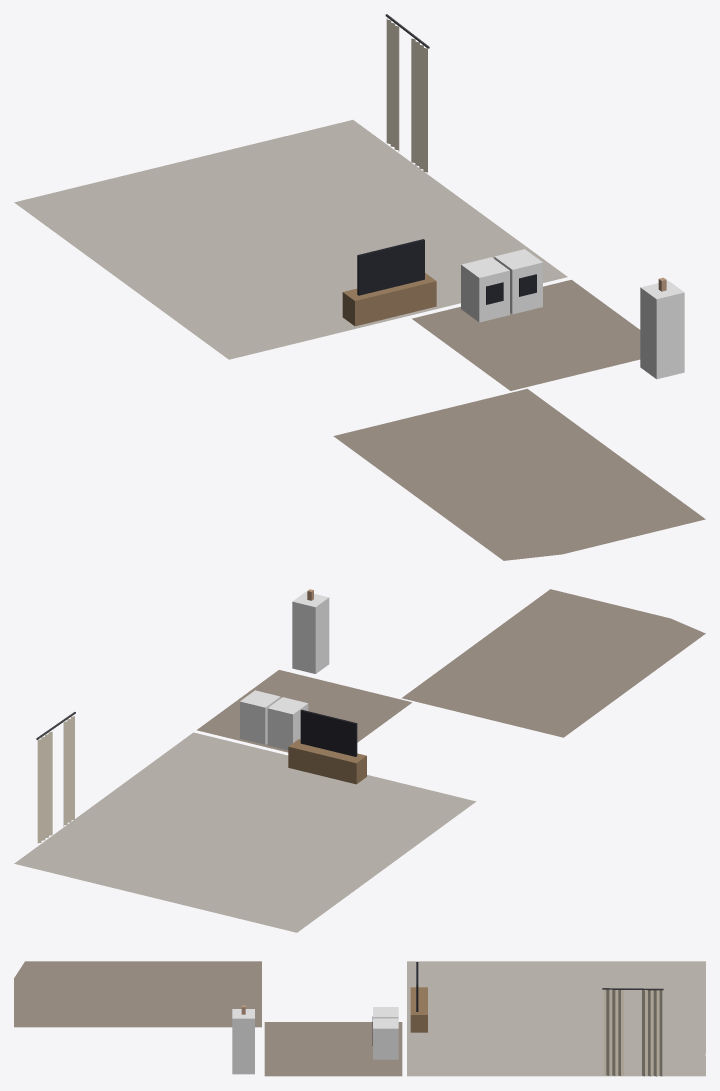
The model's file is fine-s0.glb.
3 views of the same model, one above another, from view 1: azimuth 30°, elevation 25°; view 2: azimuth 150°, elevation 25°; view 3: azimuth 270°, elevation 25° (orthographic). The views are drawn at different scales.
Parts seen in each view (by area): view 1: soft-s0, tv-console.000, water-heater.000, washer.000, washer.001; view 2: soft-s0, tv-console.000, water-heater.000, washer.000, washer.001; view 3: soft-s0, water-heater.000, washer.001, tv-console.000, washer.000.
Part boxes in pixels (box(x1,y1,x2,y2)): soft-s0: box(14, 14, 705, 560); tv-console.000: box(342, 239, 436, 326); water-heater.000: box(640, 277, 684, 379); washer.000: box(461, 257, 509, 322); washer.001: box(494, 249, 542, 314); soft-s0: box(14, 589, 705, 932); tv-console.000: box(288, 709, 366, 784); water-heater.000: box(292, 589, 329, 673); washer.000: box(267, 697, 308, 750); washer.001: box(240, 690, 280, 744); soft-s0: box(14, 961, 705, 1076); water-heater.000: box(232, 1005, 254, 1074); washer.001: box(372, 1018, 398, 1059); tv-console.000: box(410, 962, 427, 1032); washer.000: box(372, 1007, 398, 1026).
Bounding box in the file's own units: 6.72 × 2.4 × 16.9.
